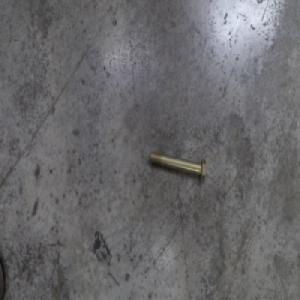Bolt: (148, 150, 207, 183)
